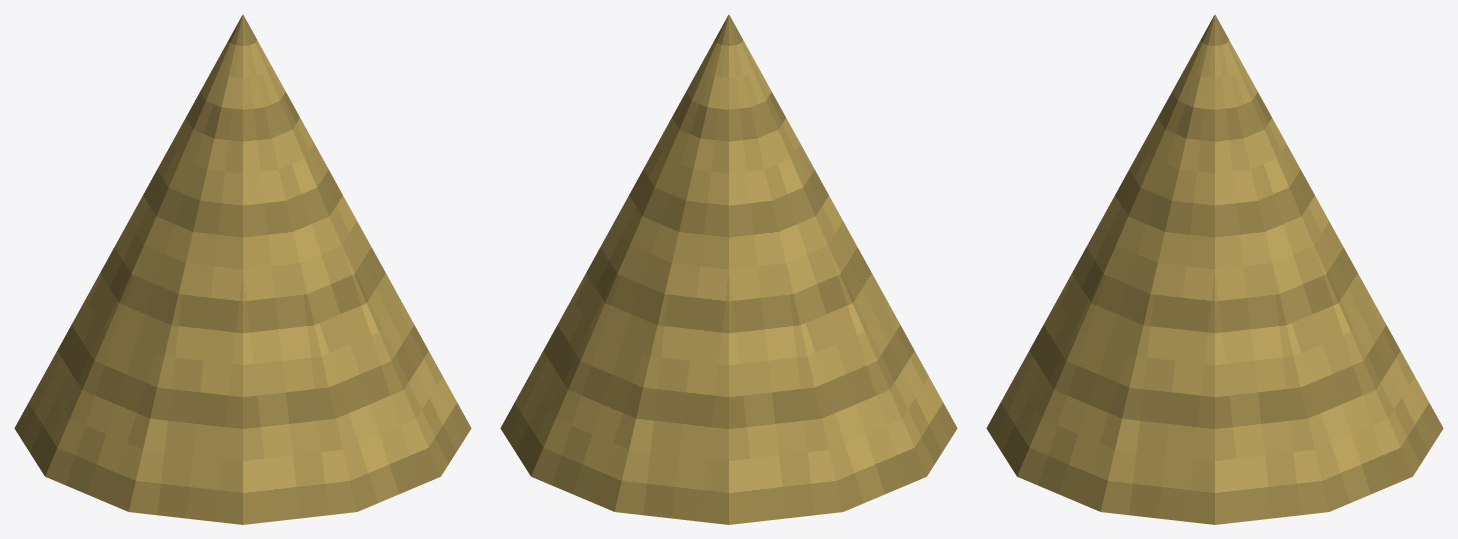
File: cone_thatch.glb
3 renders of one model, left to right at view 1: azimuth 30°, elevation 25°; view 2: azimuth 150°, elevation 25°; view 3: azimuth 270°, elevation 25°, orthographic.
Visible parts, largest first — view 1: cone_thatch; view 2: cone_thatch; view 3: cone_thatch.
Part boxes in pixels (left/top/right/bottom): cone_thatch: left=14, top=14, right=471, bottom=524; cone_thatch: left=500, top=14, right=957, bottom=524; cone_thatch: left=986, top=14, right=1443, bottom=524.
Bounding box in the file's own units: 1 × 1 × 1.
Materials: 1 (1 with a texture image).
